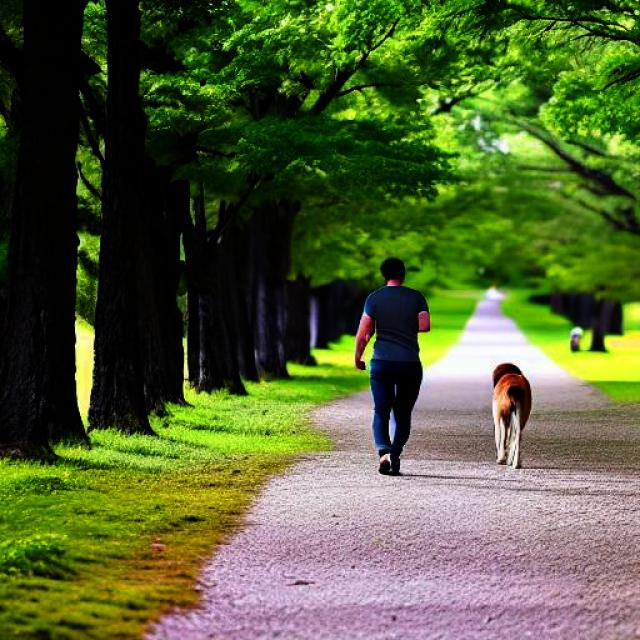Unleashed_Dog: (370, 346, 532, 468)
